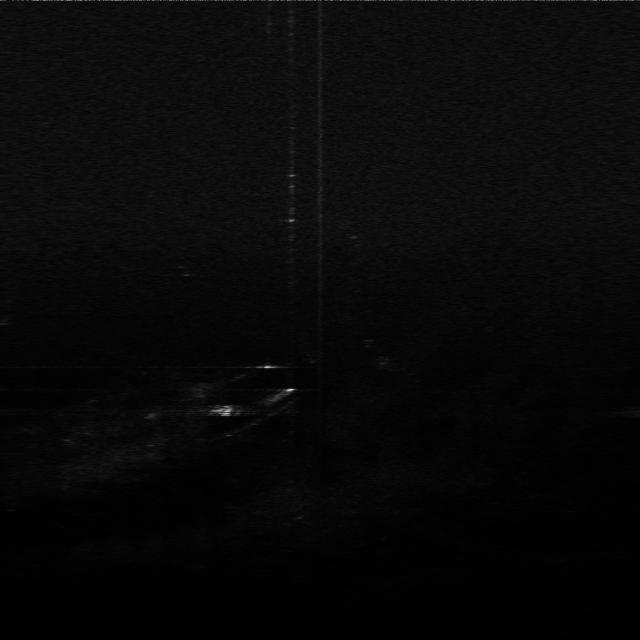rov: (210, 398, 248, 416)
